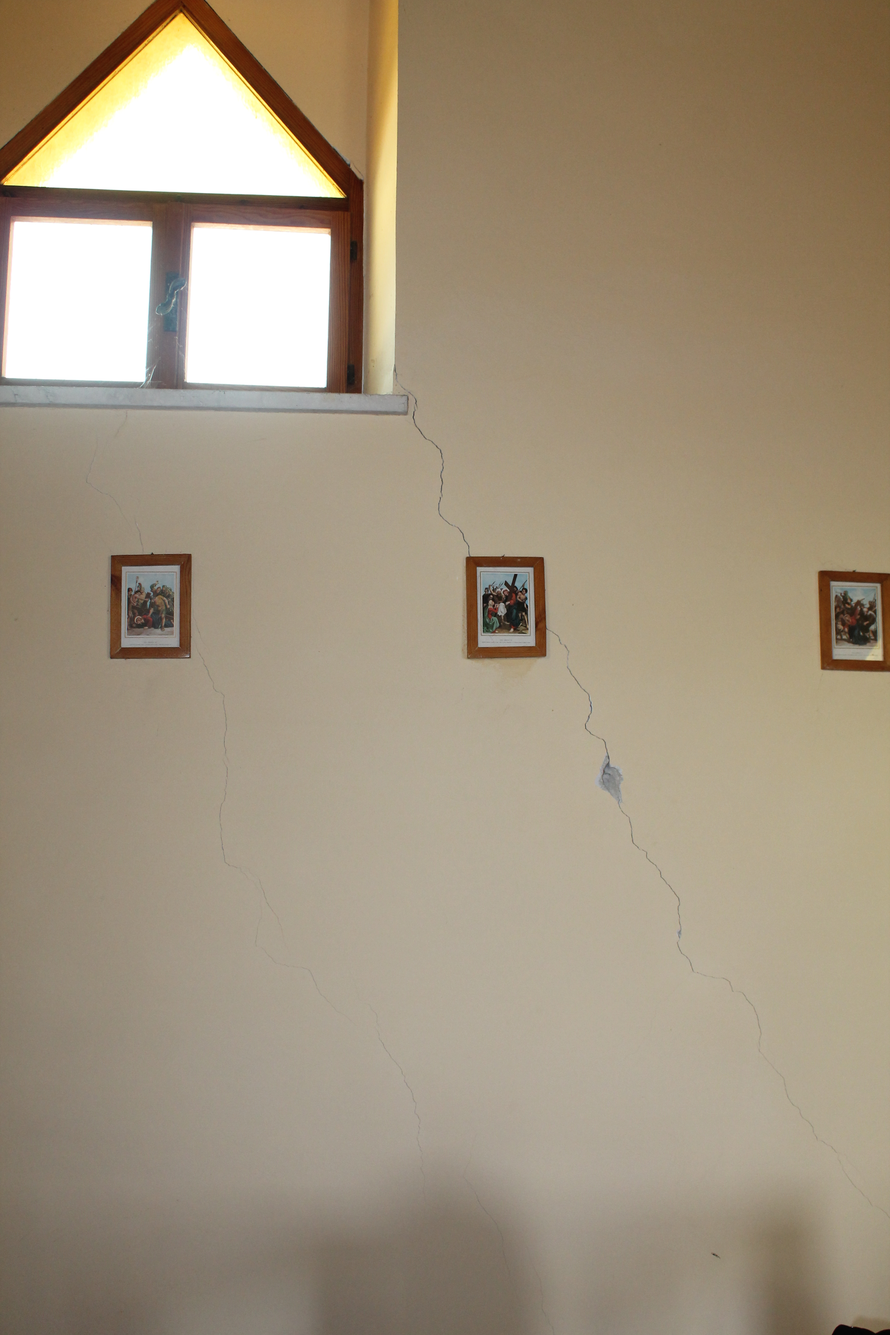Crack: (350, 343, 881, 1240)
